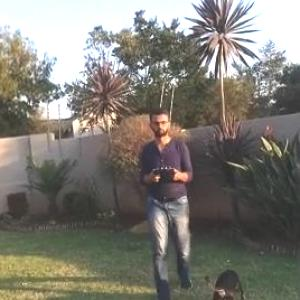follow: (136, 101, 201, 299)
null: (199, 266, 249, 299)
